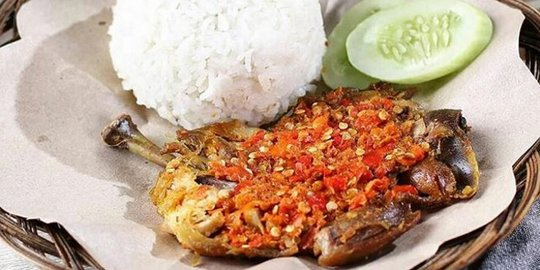ayam_geprek: (158, 103, 478, 257)
